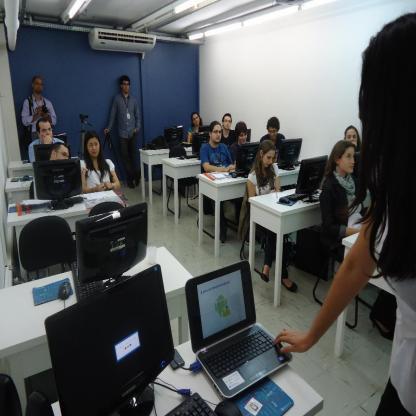board: (184, 262, 293, 396)
